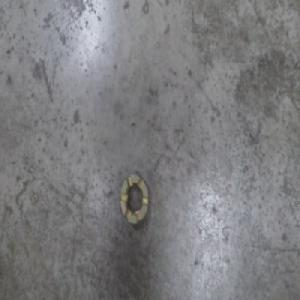Nut: (118, 168, 150, 227)
